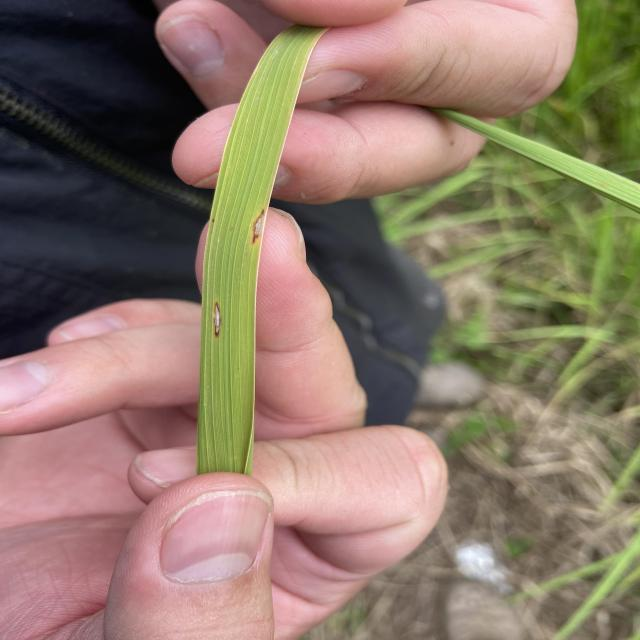Dao on: (251, 208, 268, 246), (212, 300, 223, 338)
